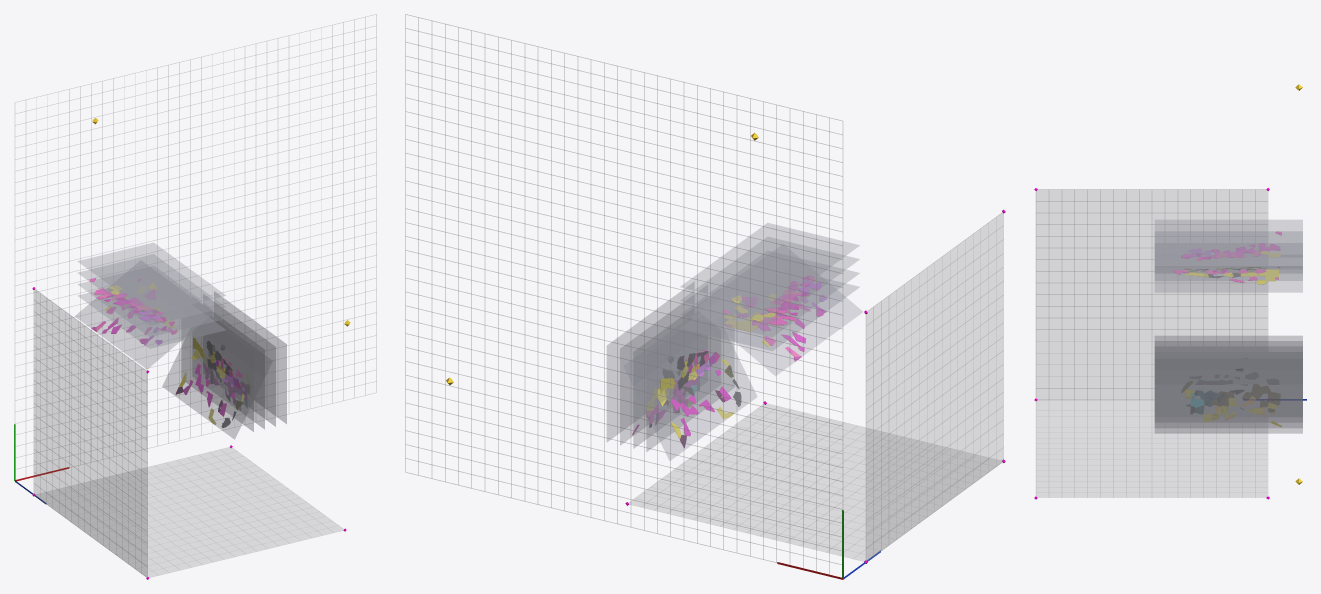
File: shards.obj
3 renders of one model, left to right at view 1: azimuth 30°, elevation 25°; view 2: azimuth 150°, elevation 25°; view 3: azimuth 270°, elevation 25°, orthographic. The views are drawn at different scales.
Parts seen in each view (by area): view 1: wall_A, wall_B, grid_floor, panel_B3, panel_B2, panel_D0, panel_A0, panel_D1, panel_A3, M, panel_B0, panel_A1 (+6 smaller); view 2: wall_A, wall_B, grid_floor, panel_B3, panel_B2, panel_D0, panel_A0, panel_D1, panel_A3, M, panel_B0, panel_A1 (+6 smaller); view 3: wall_A, wall_B, panel_A3, panel_A2, panel_B3, panel_B2, grid_wallA, panel_B1, panel_B0, panel_A0, panel_A1, K (+3 smaller).
Part boxes in pixels (x1=…): wall_A: x1=34, y1=290, x2=147, y2=576; wall_B: x1=36, y1=447, x2=343, y2=577; grid_floor: x1=15, y1=14, x2=376, y2=469; panel_B3: x1=77, y1=243, x2=225, y2=313; panel_B2: x1=78, y1=254, x2=225, y2=325; panel_D0: x1=162, y1=321, x2=272, y2=439; panel_A0: x1=181, y1=322, x2=253, y2=431; panel_D1: x1=75, y1=298, x2=212, y2=368; panel_A3: x1=214, y1=291, x2=286, y2=423; M: x1=89, y1=278, x2=246, y2=416; panel_B0: x1=78, y1=291, x2=225, y2=348; panel_A1: x1=206, y1=311, x2=264, y2=429; wall_A: x1=866, y1=213, x2=1003, y2=560; wall_B: x1=629, y1=404, x2=1001, y2=560; grid_floor: x1=405, y1=14, x2=842, y2=574; panel_B3: x1=680, y1=223, x2=859, y2=309; panel_B2: x1=680, y1=237, x2=859, y2=323; panel_D0: x1=623, y1=317, x2=757, y2=460; panel_A0: x1=646, y1=319, x2=734, y2=451; panel_D1: x1=695, y1=290, x2=862, y2=375; panel_A3: x1=607, y1=282, x2=694, y2=441; M: x1=632, y1=275, x2=826, y2=447; panel_B0: x1=680, y1=280, x2=859, y2=350; panel_A1: x1=633, y1=305, x2=703, y2=448; wall_A: x1=1036, y1=190, x2=1267, y2=399; wall_B: x1=1036, y1=400, x2=1267, y2=497; panel_A3: x1=1155, y1=352, x2=1302, y2=433; panel_A2: x1=1155, y1=346, x2=1302, y2=427; panel_B3: x1=1155, y1=220, x2=1302, y2=257; panel_B2: x1=1155, y1=231, x2=1302, y2=268; grid_wallA: x1=1036, y1=189, x2=1267, y2=399; panel_B1: x1=1155, y1=257, x2=1302, y2=280; panel_B0: x1=1155, y1=269, x2=1302, y2=292; panel_A0: x1=1155, y1=336, x2=1302, y2=346; panel_A1: x1=1155, y1=341, x2=1302, y2=351; K: x1=1181, y1=258, x2=1280, y2=413.
Bounding box in the file's own units: 3318 × 3318 × 2115.
